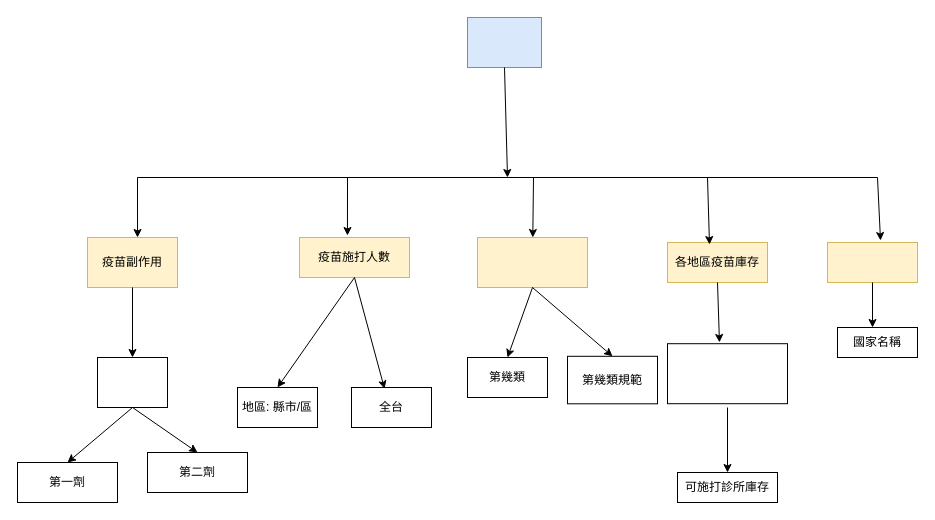
The diagram is 935 pixels wide and 520 high, and some of its shapes have lost their labels. Here are the shapes that lost their labels. From the top down, the centre of each, then its label:
the point at 504,42: 台灣疫苗
the point at 532,262: 各類疫苗施打人數與規範
the point at 872,262: 每個國家疫苗覆蓋率
the point at 132,382: 廠牌
the point at 727,373: 地區: 縣市/ 鄉鎮市
